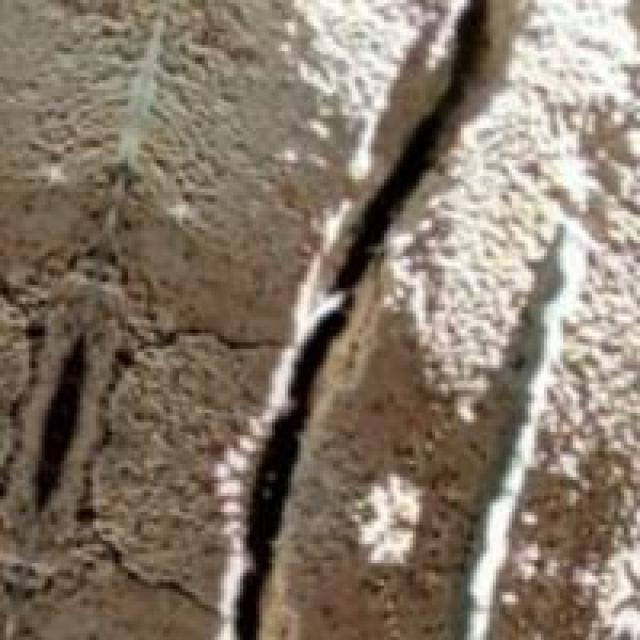Crack: (198, 0, 548, 637)
